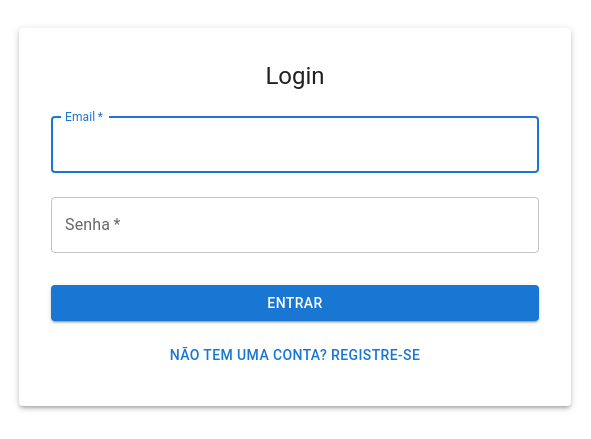
Test: LoginPage Component › deve mostrar erro quando o email é inválido
// Preencher com email inválido
Type "email-invalido" into the field labelled "Email *" at [295, 145], box x1=51 y1=117 x2=539 y2=173
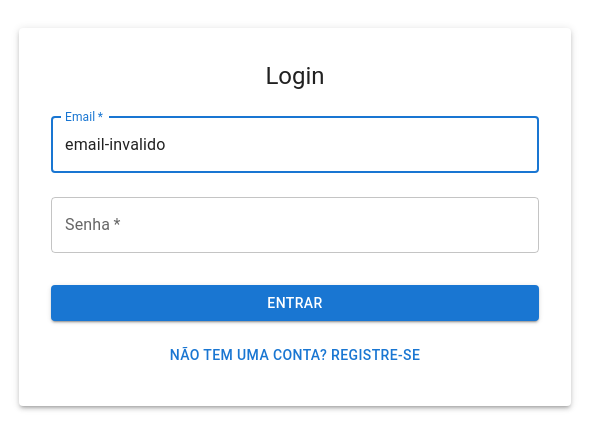
// Preencher senha (para focar no erro do email)
Type "senha123" into the password field labelled "Senha *" at [295, 225], box x1=51 y1=197 x2=539 y2=253
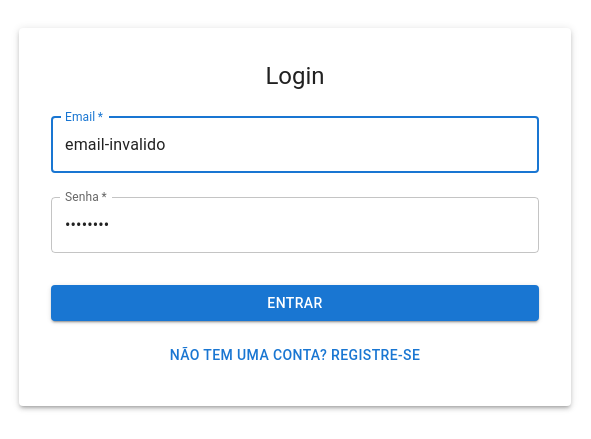
// Clicar no botão de envio
Click the button "Entrar" at [295, 303], box x1=51 y1=285 x2=539 y2=321
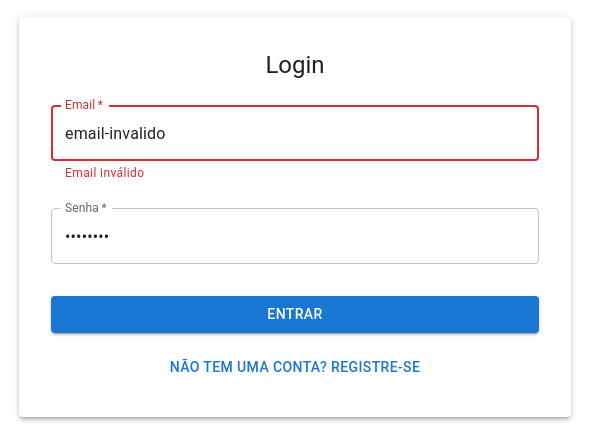
Result: the text "Email inválido" is shown at x1=65 y1=166 x2=144 y2=180
